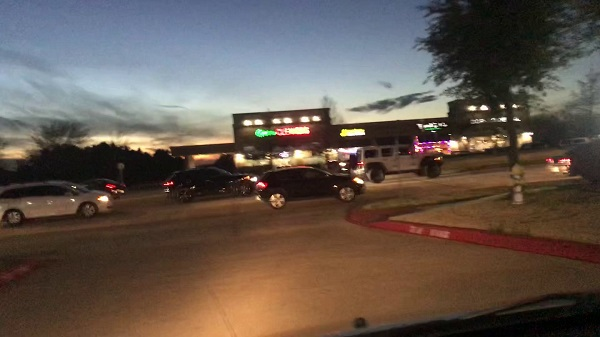car: (254, 167, 366, 209), (2, 182, 111, 225), (352, 144, 446, 180), (162, 166, 256, 198)
